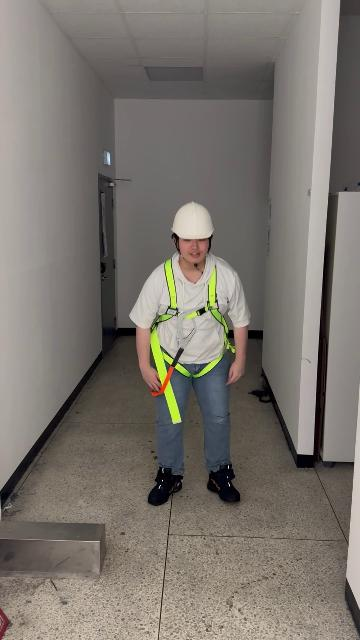helmet_worn: (170, 200, 215, 239)
shoe_worn: (147, 466, 183, 506), (207, 464, 240, 502)
vest_worn: (145, 260, 235, 419)
